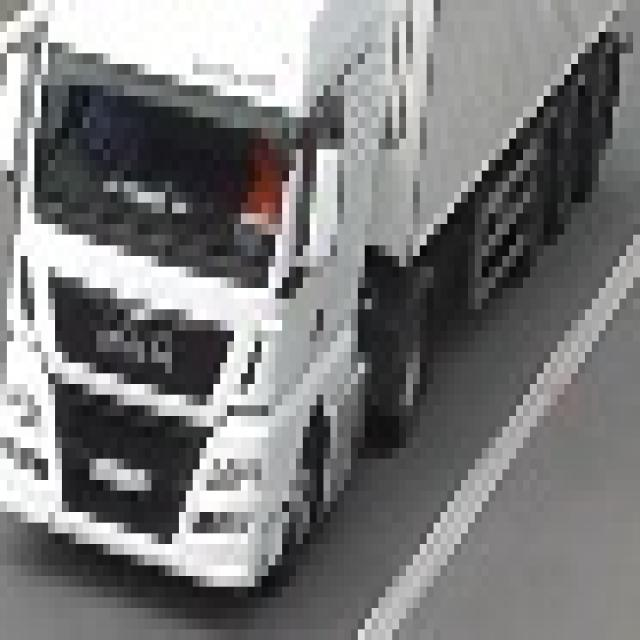TRUCK: (3, 0, 595, 629)
